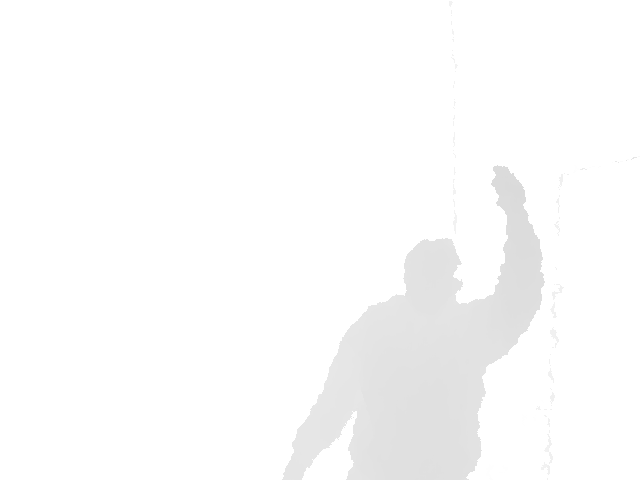hand: (490, 163, 527, 213)
head: (403, 238, 461, 301)
person: (281, 163, 545, 480)
